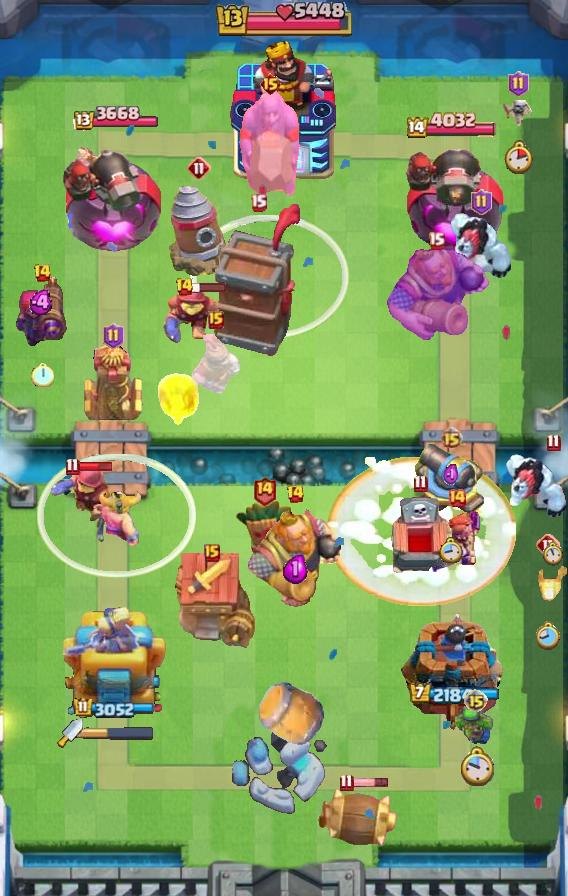archer-queen: (237, 91, 303, 203)
bar: (60, 607, 168, 731)
clock: (213, 2, 355, 40)
dart-goblin: (213, 202, 303, 358)
dirt: (257, 678, 327, 748)
earthquake: (190, 334, 242, 398)
electro-spirit: (284, 553, 309, 584), (29, 290, 55, 315), (443, 463, 459, 487)
elixir: (458, 746, 493, 788), (504, 140, 532, 174), (536, 621, 561, 651), (439, 537, 463, 563), (31, 362, 54, 387), (543, 542, 563, 566)
elixir-golem-mid: (385, 496, 455, 582)
emote: (191, 281, 227, 293), (351, 777, 388, 788), (78, 460, 114, 471)
fireball: (48, 465, 116, 545), (162, 284, 238, 346)
giant-skeleton: (241, 507, 349, 611), (382, 247, 490, 343)
giant-snowball: (455, 706, 497, 746)
goblin-barrel: (234, 499, 294, 575)
goblin-brawler: (82, 341, 144, 425)
goblin-giant: (99, 490, 143, 546)
heal-spirit: (502, 97, 534, 129)
ice-spirit-evolution: (529, 561, 567, 603)
king-tower: (230, 41, 338, 181)
king-tower-bar: (83, 726, 155, 740)
magic-archer: (169, 183, 229, 277)
mega-minion: (16, 274, 68, 346)
phoenix-big: (327, 457, 518, 607)
queen-tower: (401, 613, 505, 731)
rage: (447, 211, 515, 281), (504, 454, 568, 520)
royal-recruit: (415, 438, 487, 522)
selected: (407, 111, 499, 141), (70, 107, 157, 134), (409, 683, 500, 706), (73, 698, 154, 719)
sparky: (169, 552, 255, 650)
tesla-evolution: (429, 508, 485, 574)
text: (252, 475, 277, 505), (187, 156, 211, 180), (536, 533, 560, 557), (464, 689, 488, 713), (258, 72, 281, 96), (508, 71, 529, 97), (472, 189, 493, 215), (103, 323, 124, 349), (441, 426, 464, 449), (447, 488, 467, 508), (33, 263, 52, 283), (175, 277, 194, 297), (287, 484, 306, 504), (249, 192, 266, 211), (428, 231, 445, 249), (208, 311, 224, 329), (204, 544, 220, 562), (65, 456, 80, 475), (413, 475, 428, 494), (547, 433, 561, 452), (339, 773, 353, 791)
the-log: (316, 786, 400, 848)
tower-bar: (401, 138, 505, 256), (63, 136, 165, 256)
valkyrie: (154, 370, 205, 432)
